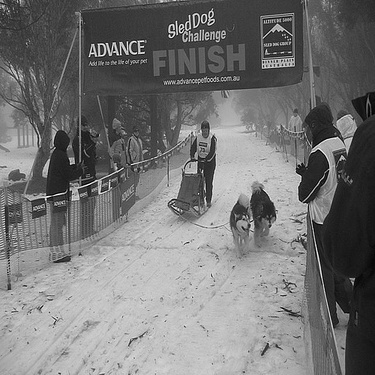dog: (241, 173, 285, 254), (220, 189, 257, 258)
